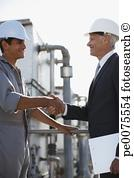helmet: (82, 17, 120, 39), (1, 22, 30, 43)
